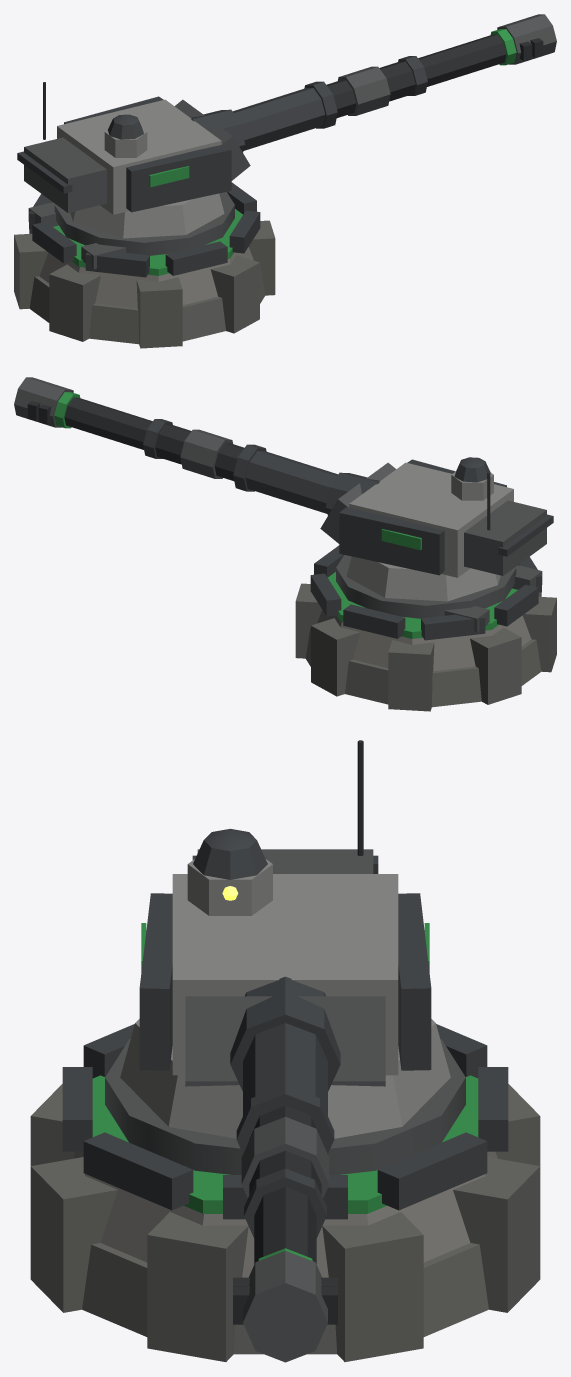
The model's file is gcannon_lod1.glb.
3 views of the same model, one above another, from view 1: azimuth 30°, elevation 25°; view 2: azimuth 150°, elevation 25°; view 3: azimuth 270°, elevation 25° (orthographic). The views are drawn at different scales.
Visible parts, largest first — view 1: Gcannon_LOD1_head, Gcannon_LOD1_Walls, Gcannon_LOD1_gun, Gcannon_LOD1_Frame, Gcannon_LOD1_Foundation, Gcannon_LOD1_Details; view 2: Gcannon_LOD1_head, Gcannon_LOD1_Walls, Gcannon_LOD1_gun, Gcannon_LOD1_Frame, Gcannon_LOD1_Foundation, Gcannon_LOD1_Details; view 3: Gcannon_LOD1_head, Gcannon_LOD1_Walls, Gcannon_LOD1_gun, Gcannon_LOD1_Frame, Gcannon_LOD1_Foundation, Gcannon_LOD1_Details.
Part boxes in pixels (x1=…): Gcannon_LOD1_head: x1=17, y1=82, x2=250, y2=255; Gcannon_LOD1_Walls: x1=14, y1=220, x2=275, y2=348; Gcannon_LOD1_gun: x1=233, y1=14, x2=556, y2=150; Gcannon_LOD1_Frame: x1=29, y1=182, x2=260, y2=277; Gcannon_LOD1_Foundation: x1=29, y1=264, x2=265, y2=344; Gcannon_LOD1_Details: x1=28, y1=202, x2=242, y2=275; Gcannon_LOD1_head: x1=320, y1=457, x2=553, y2=618; Gcannon_LOD1_Walls: x1=295, y1=583, x2=556, y2=711; Gcannon_LOD1_gun: x1=14, y1=377, x2=337, y2=513; Gcannon_LOD1_Frame: x1=310, y1=545, x2=541, y2=640; Gcannon_LOD1_Foundation: x1=305, y1=627, x2=541, y2=707; Gcannon_LOD1_Details: x1=328, y1=565, x2=542, y2=638; Gcannon_LOD1_head: x1=105, y1=740, x2=465, y2=1174; Gcannon_LOD1_Walls: x1=30, y1=1084, x2=540, y2=1361; Gcannon_LOD1_gun: x1=233, y1=1023, x2=337, y2=1362; Gcannon_LOD1_Frame: x1=62, y1=1024, x2=508, y2=1219; Gcannon_LOD1_Foundation: x1=82, y1=1243, x2=488, y2=1354; Gcannon_LOD1_Details: x1=92, y1=1075, x2=478, y2=1213.
Size of the model in its own units: 4.73 by 1.91 by 2.03.
